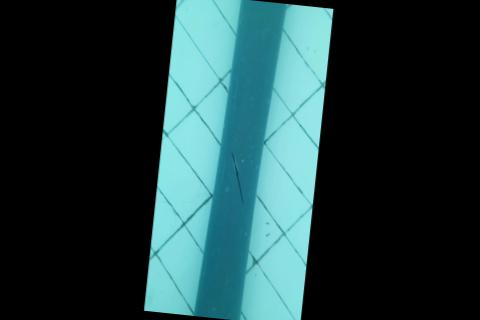keretakan: (225, 150, 251, 206)
